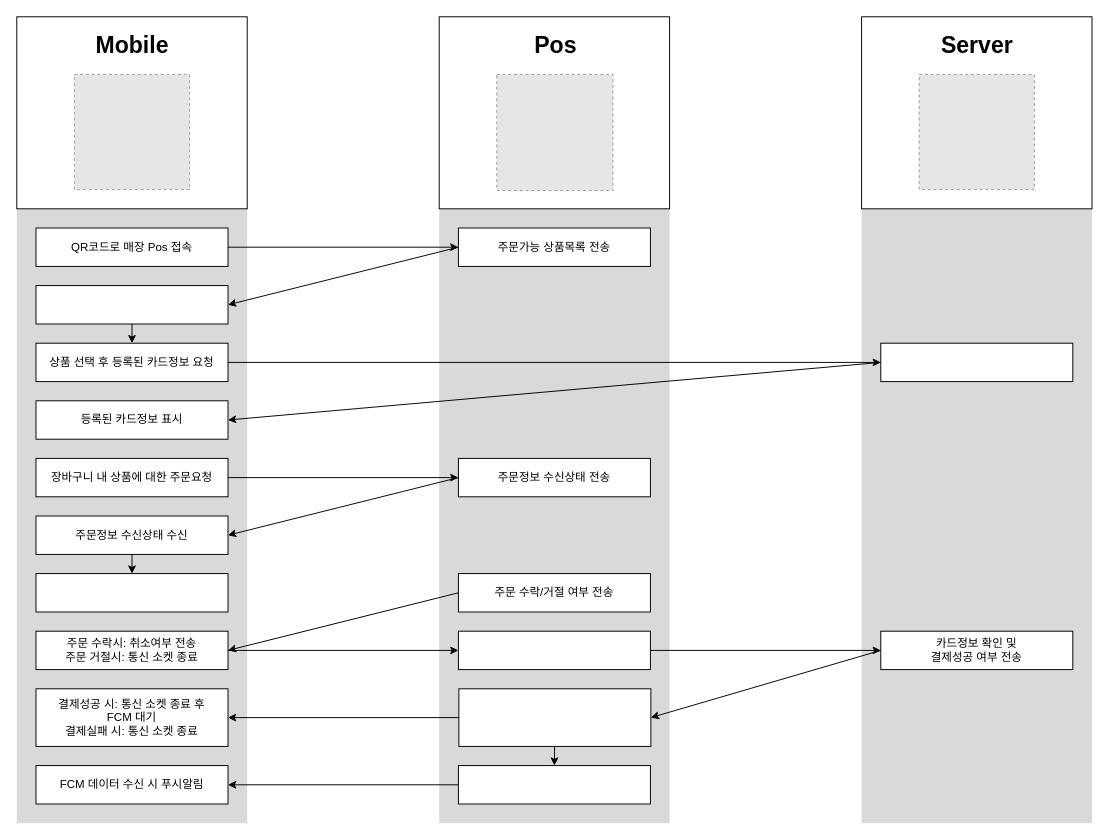
Image size: 1109x840. Some labels were removed from this diagram. Grey dashed boxes stand in for pictures. Here are the shapes that lost their labels. From the top down, the centre of each, then its label:
At [131,304]: "주문가능 상품목록 표시".
At [976,362]: "해당 계정에 등록되어있는 카드정보 전송".
At [131,592]: "매장 수락/거절 대기 (대기 중 취소여부 선택가능)".
At [553,650]: "서버로 결제요청 전송 주문 취소시: 통신 소켓 종료".
At [554,717]: "결제성공 시: Pos에 주문내역 저장 후 결제결과 전송 결제실패 시: 결제결과 전송 후 통신 소켓 종료".
At [553,784]: "상품 준비 완료 시 주문자의 FCM 토큰으로 데이터 전송".
